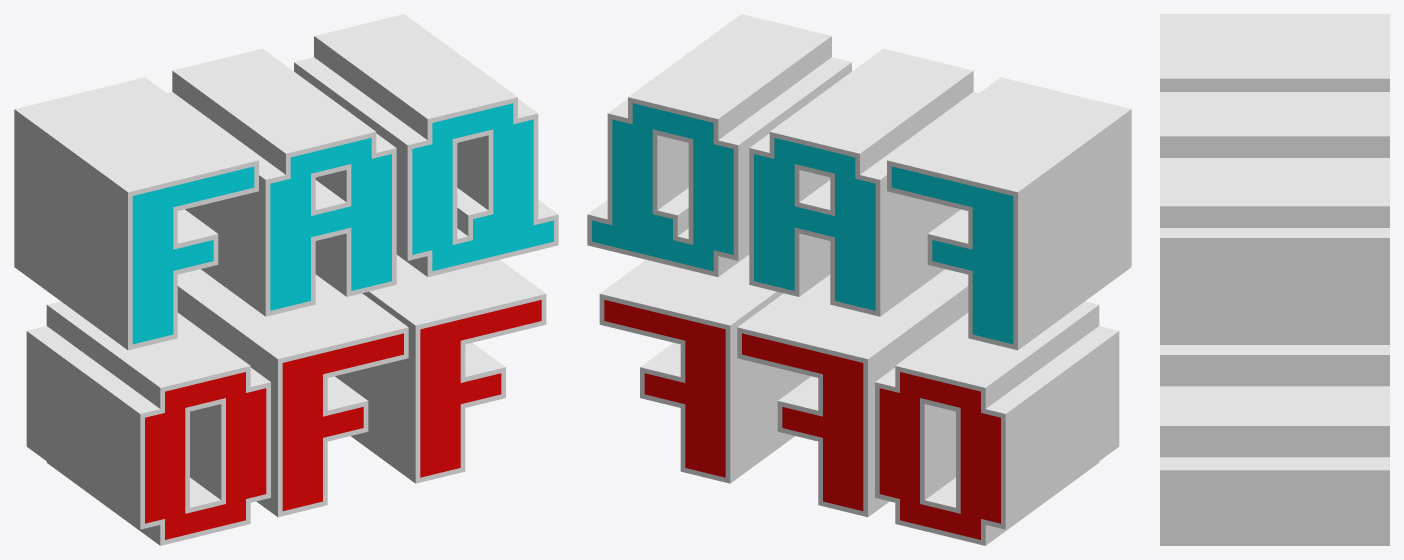
The model's file is FAQ-OFF.gltf.
3 renders of one model, left to right at view 1: azimuth 30°, elevation 25°; view 2: azimuth 150°, elevation 25°; view 3: azimuth 270°, elevation 25°, orthographic.
Size of the model in its own units: 0.0372 by 0.0298 by 0.017.
